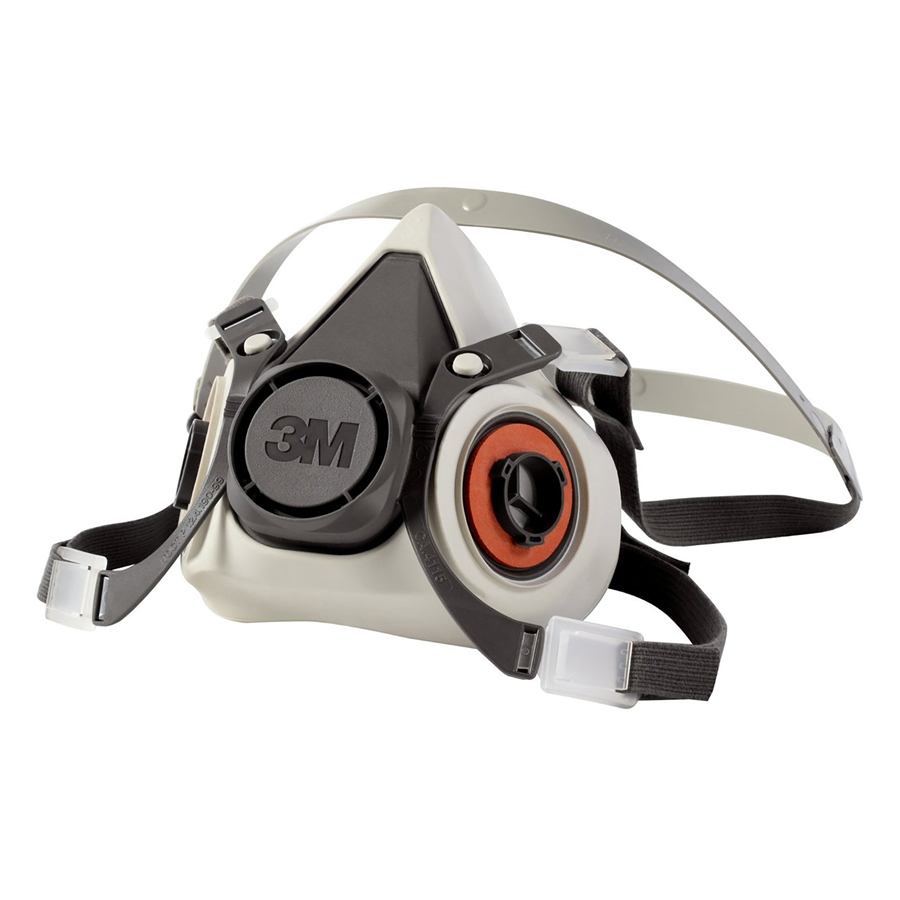3M: (257, 407, 365, 474)
